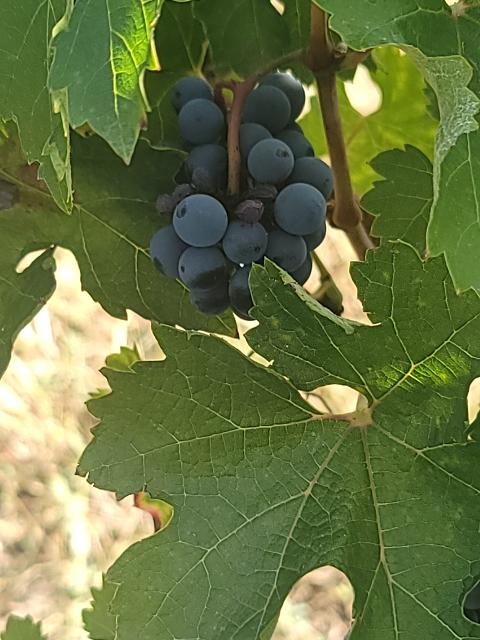grapes: (150, 71, 335, 320)
